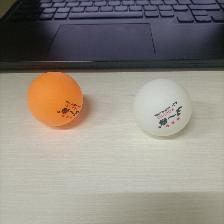WhiteBall: (131, 78, 191, 137)
YellowBall: (25, 71, 84, 127)
